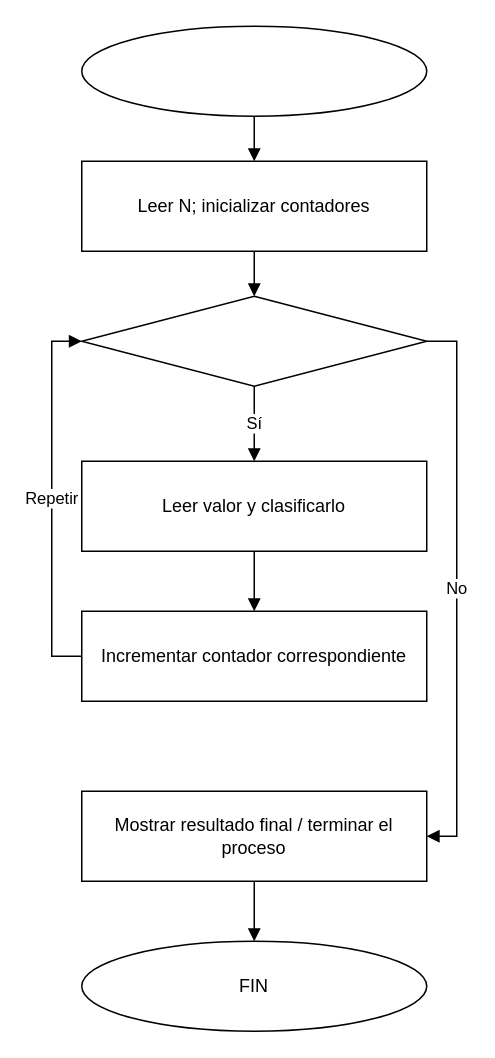
Image size: 495x1058. Some labels were removed from this diagram. The centre of each missing label's shape, as x and y in pixels:
INICIO · Ejercicio 36: point 253,70
¿Quedan valores por leer?: point 253,340
